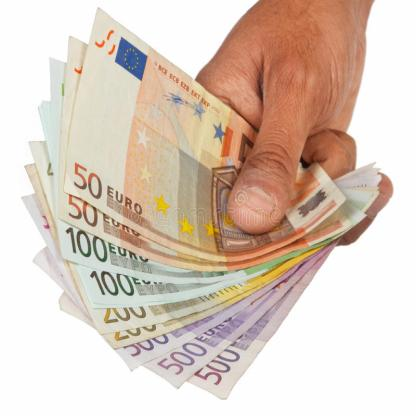billete: (20, 6, 386, 402)
